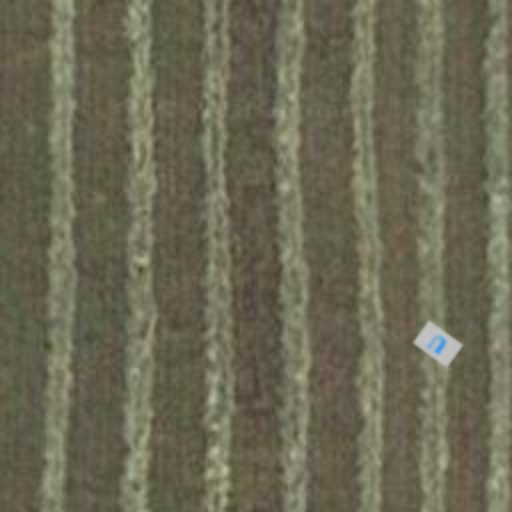rectangle: (408, 314, 468, 374)
